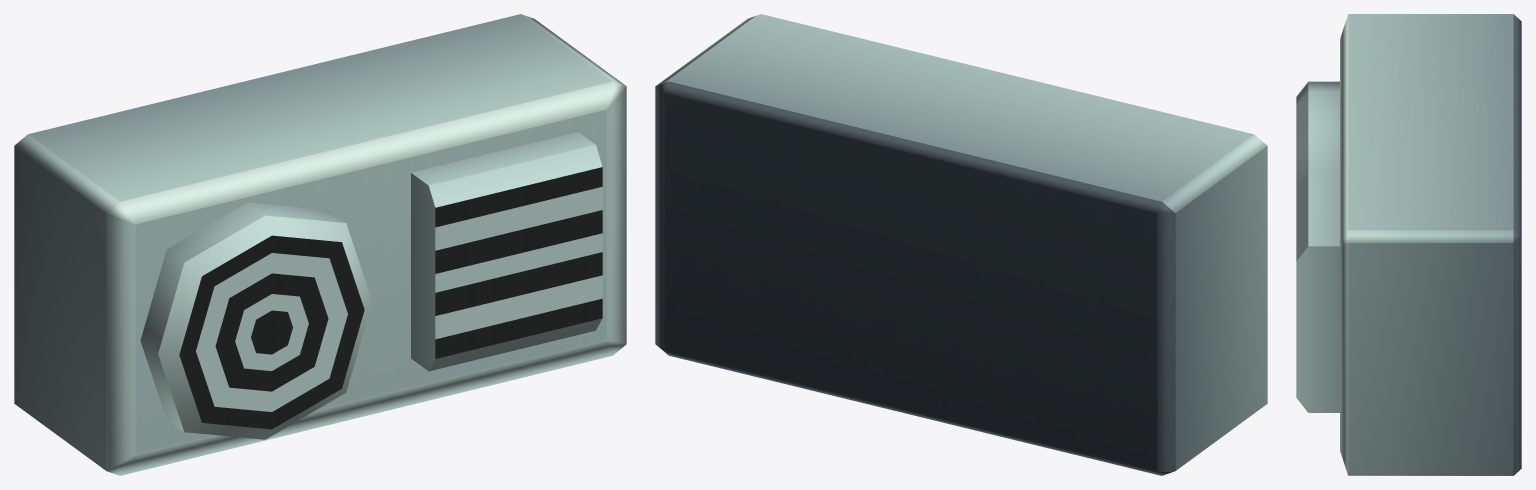
The model's file is airco_unit_01.fbx.
3 renders of one model, left to right at view 1: azimuth 30°, elevation 25°; view 2: azimuth 150°, elevation 25°; view 3: azimuth 270°, elevation 25°, orthographic. The views are drawn at different scales.
Visible parts, largest first — view 1: airco_unit_01; view 2: airco_unit_01; view 3: airco_unit_01.
Part boxes in pixels (left/top/right/bottom): airco_unit_01: left=14, top=14, right=626, bottom=475; airco_unit_01: left=655, top=14, right=1267, bottom=475; airco_unit_01: left=1296, top=14, right=1521, bottom=475.
Bounding box in the file's own units: 110 × 55.17 × 45.77.
